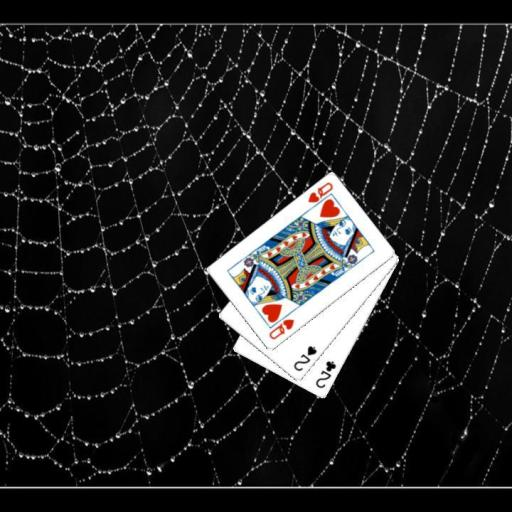2C: (312, 358, 338, 390)
2S: (290, 343, 319, 373)
QH: (304, 179, 335, 212), (266, 316, 296, 341)
